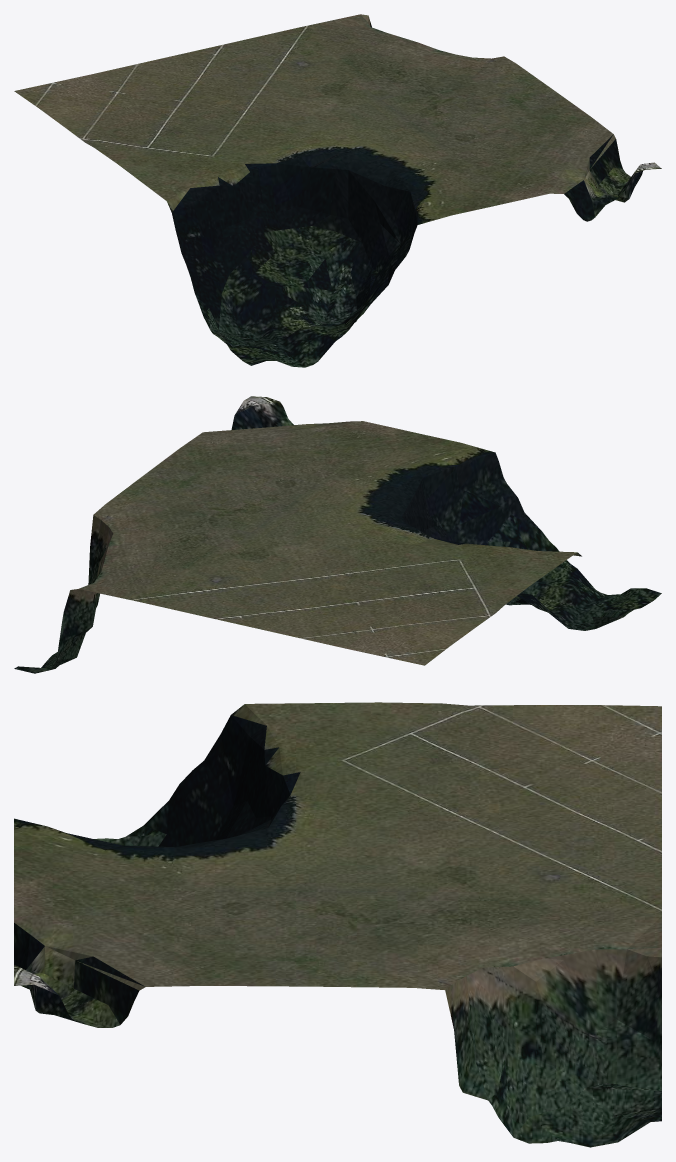
File: map_15_8187_13787.dae
3 views of the same model, one above another, from view 1: azimuth 30°, elevation 25°; view 2: azimuth 150°, elevation 25°; view 3: azimuth 270°, elevation 25° (orthographic). The views are drawn at different scales.
Visible parts, largest first — view 1: Ter0; view 2: Ter0; view 3: Ter0.
Part boxes in pixels (bbox=[...]): Ter0: bbox=[14, 14, 661, 367]; Ter0: bbox=[14, 396, 661, 673]; Ter0: bbox=[14, 702, 661, 1147].
Size of the model in its own units: 63.87 by 63.88 by 18.62.
3 materials, 3 textured.
